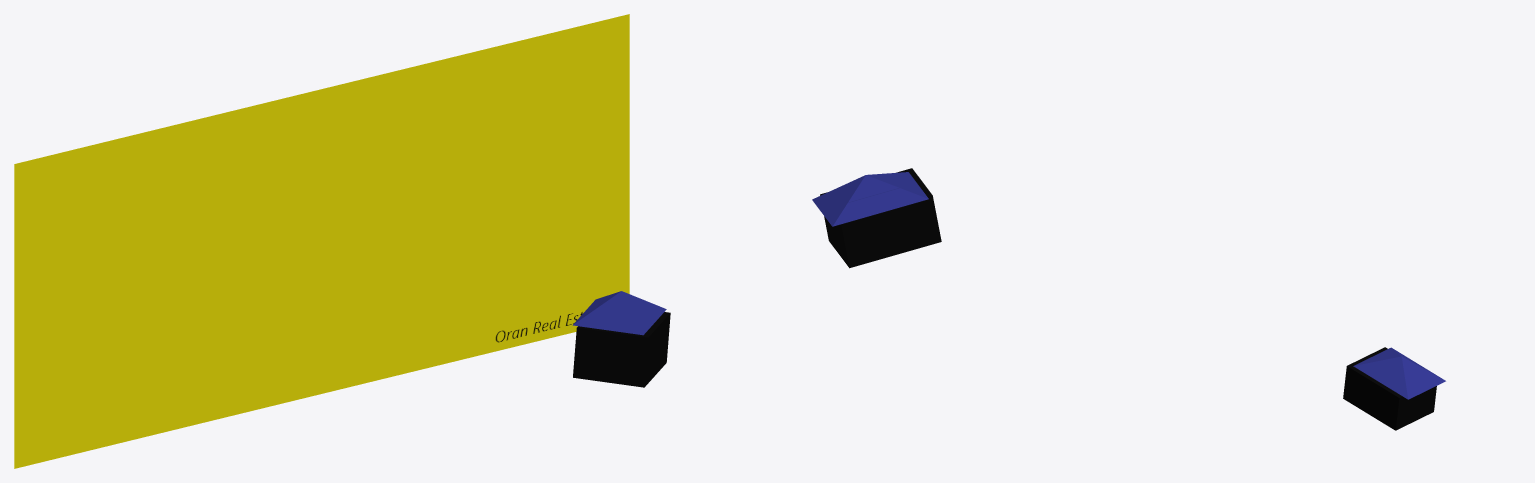
The model's file is Oran bg -3d.glb.
The picture shows the model from 3 angles, left to right: view 1: azimuth 30°, elevation 25°; view 2: azimuth 150°, elevation 25°; view 3: azimuth 270°, elevation 25°; orthographic projection. The views are drawn at different scales.
Parts seen in each view (by area): view 1: mesh_id1, mesh_id188, mesh_id156; view 2: mesh_id188, mesh_id156; view 3: mesh_id188, mesh_id156.
Part boxes in pixels (left/top/right/bottom): mesh_id1: left=14, top=14, right=629, bottom=468; mesh_id188: left=573, top=312, right=670, bottom=387; mesh_id156: left=572, top=291, right=666, bottom=335; mesh_id188: left=820, top=168, right=941, bottom=268; mesh_id156: left=812, top=172, right=928, bottom=226; mesh_id188: left=1343, top=347, right=1436, bottom=430; mesh_id156: left=1353, top=347, right=1445, bottom=399.
Size of the model in its own units: 0.862 by 0.408 by 0.2869.
Materials: 4 (4 with a texture image).
